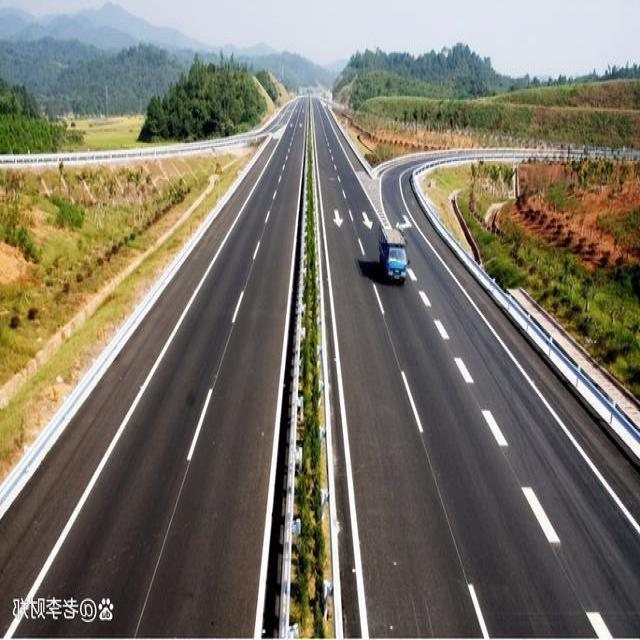point: (285, 74, 331, 116)
